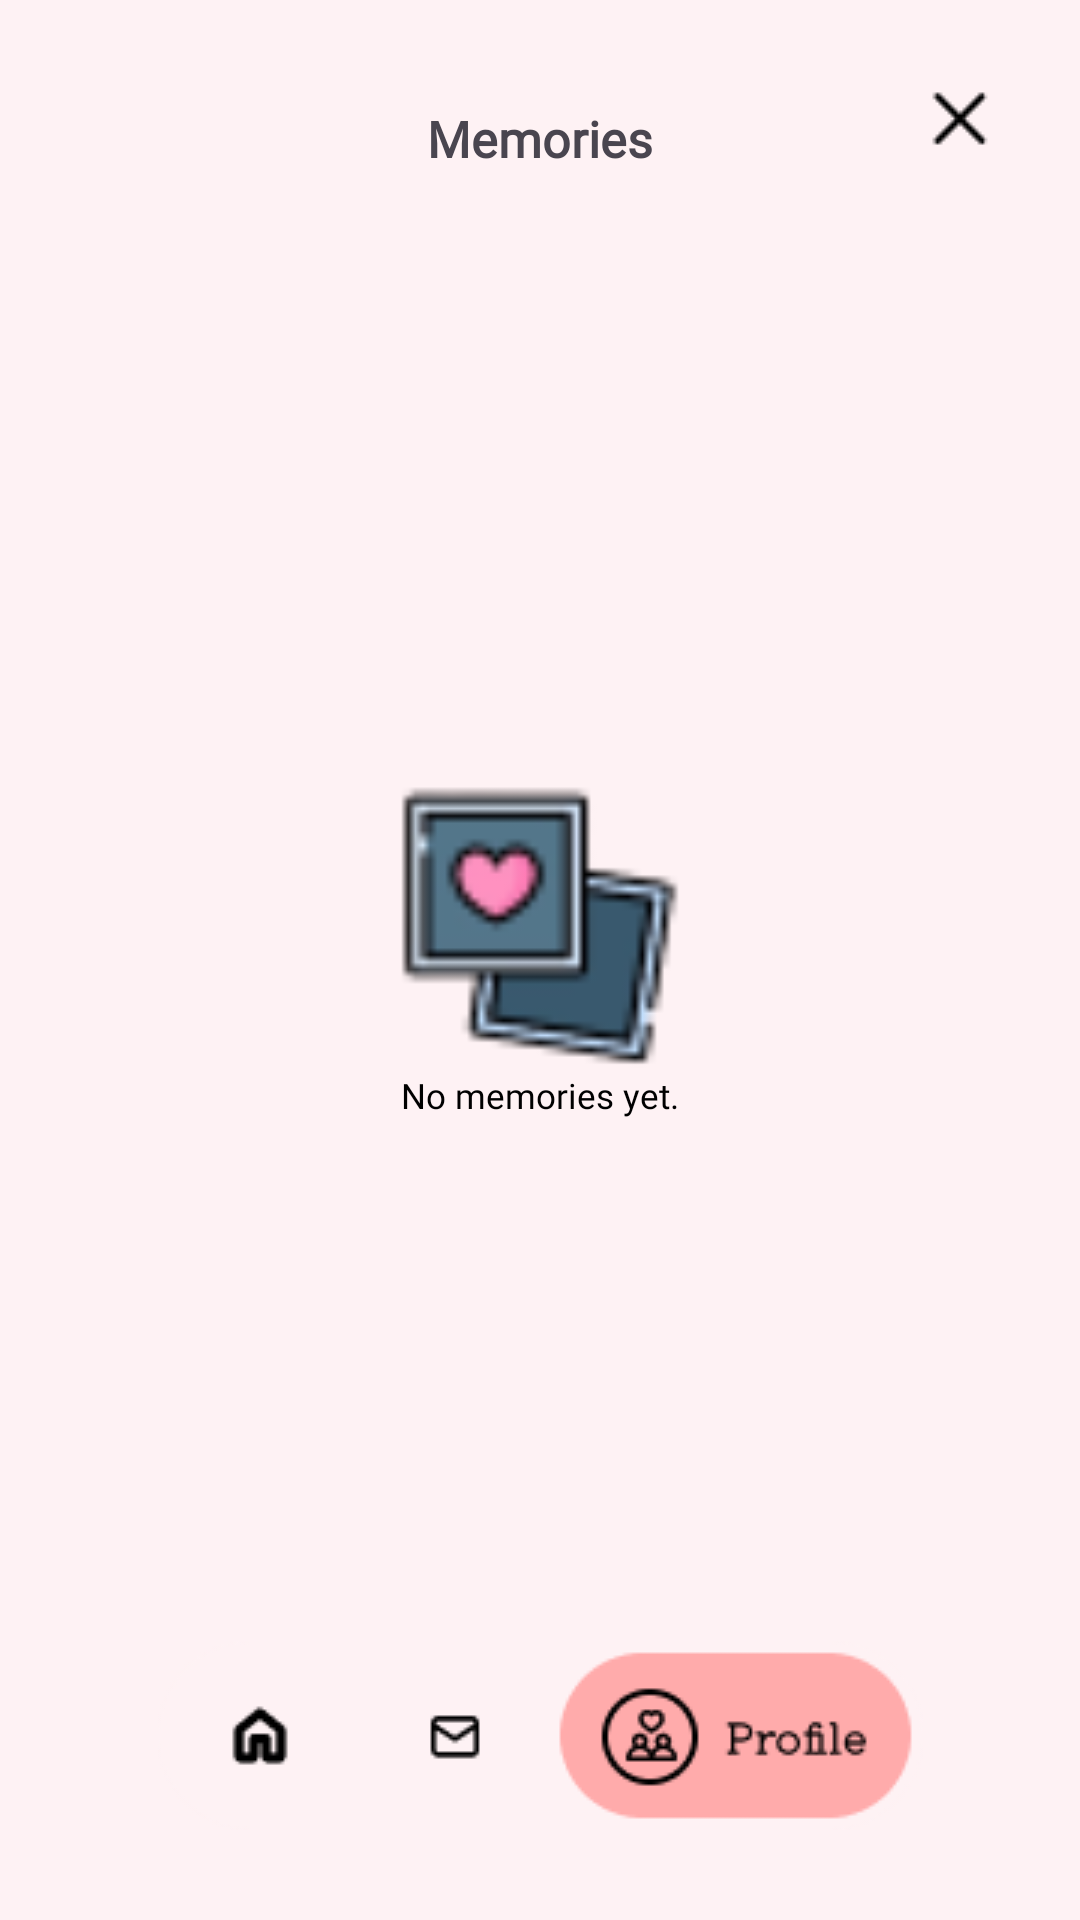

Icons on this 1080x1920 Android screen, each with the point to tap as [x,y]:
exit: [959,118]
